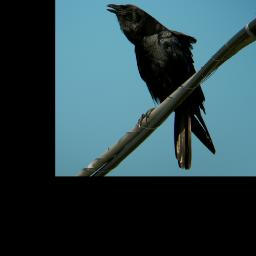Crow: (106, 2, 216, 172)
